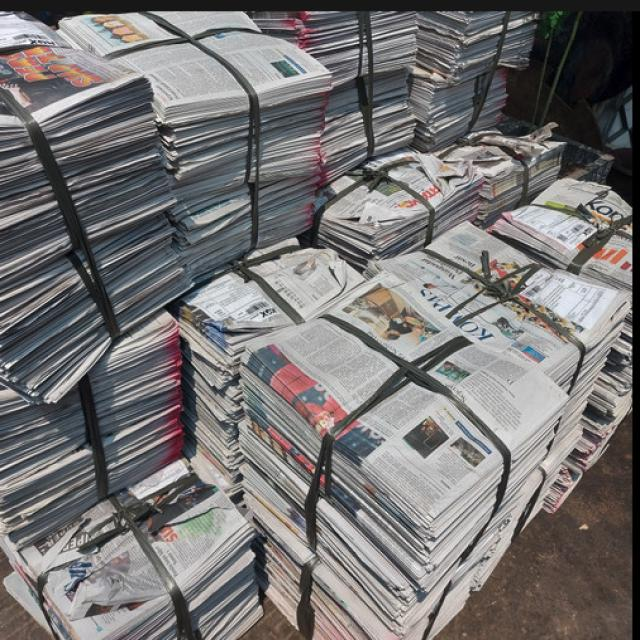Koran: (0, 9, 632, 639), (241, 266, 568, 612), (64, 10, 324, 259), (376, 218, 616, 376)
